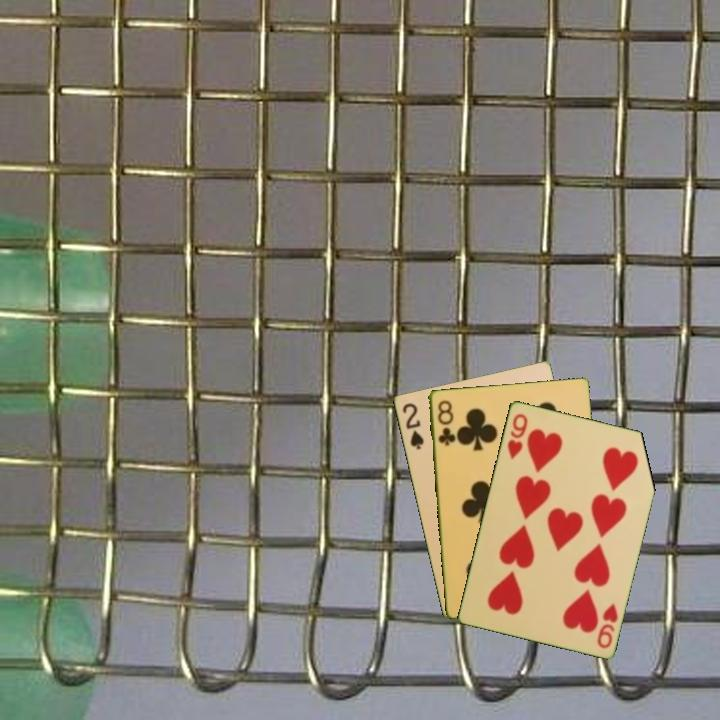2s: (398, 399, 426, 452)
8c: (434, 396, 457, 448)
9h: (593, 599, 620, 651), (504, 410, 530, 462)
